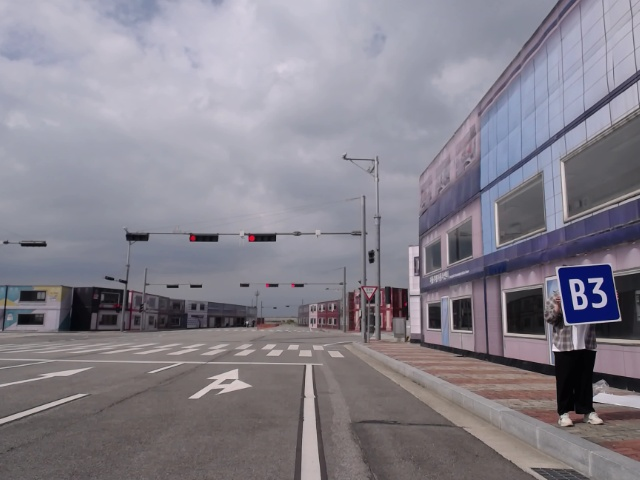delivery_b3: (556, 264, 623, 323)
red_4: (188, 229, 222, 245), (247, 232, 277, 244), (289, 282, 306, 289), (264, 282, 280, 289)
